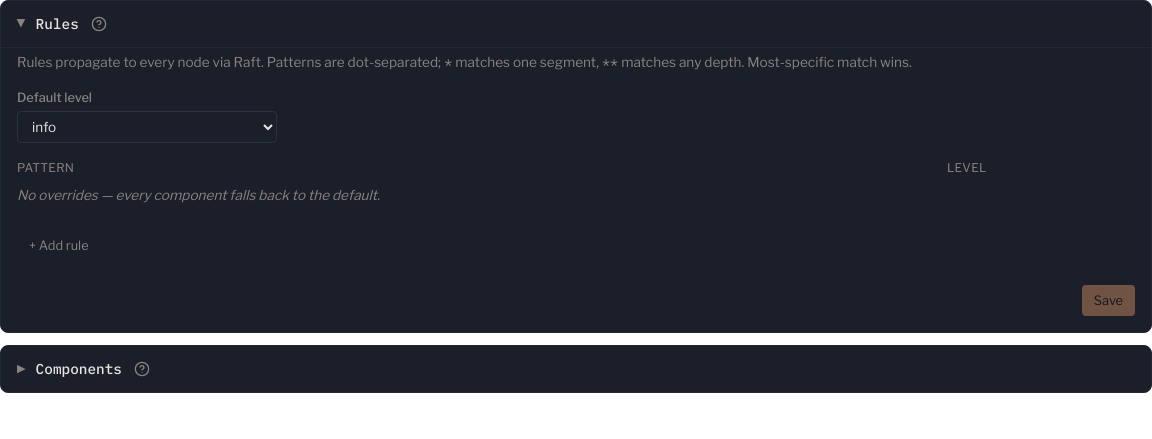
Test case: LogLevelsSettings save gates › an empty new rule disables Save with the reason, until the rule is removed
Step 1. Click the button "+ Add rule" → click(59, 245), box [17, 230, 101, 261]
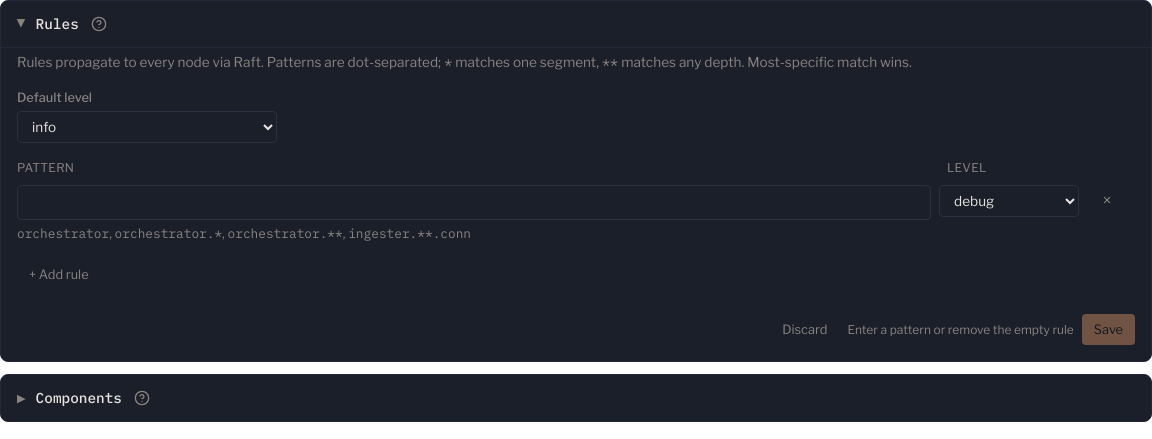
Expected: the button "Save" is disabled, [1082, 314, 1135, 345]
Expected: the text "Enter a pattern or remove the empty rule" is shown, [848, 320, 1074, 338]
Step 2. Click the button named "Remove rule" → click(1107, 201), box [1087, 185, 1127, 217]
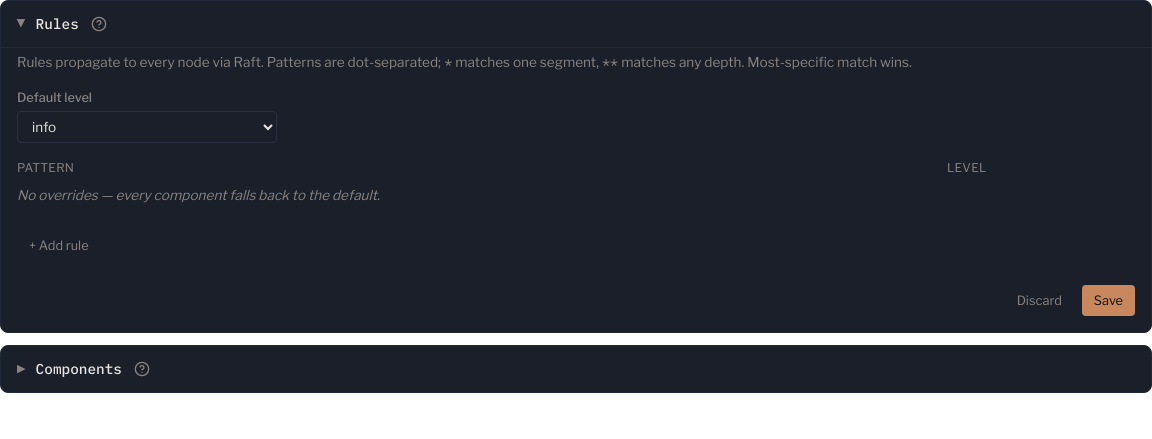
Expected: the text "Enter a pattern or remove the empty rule" is gone
